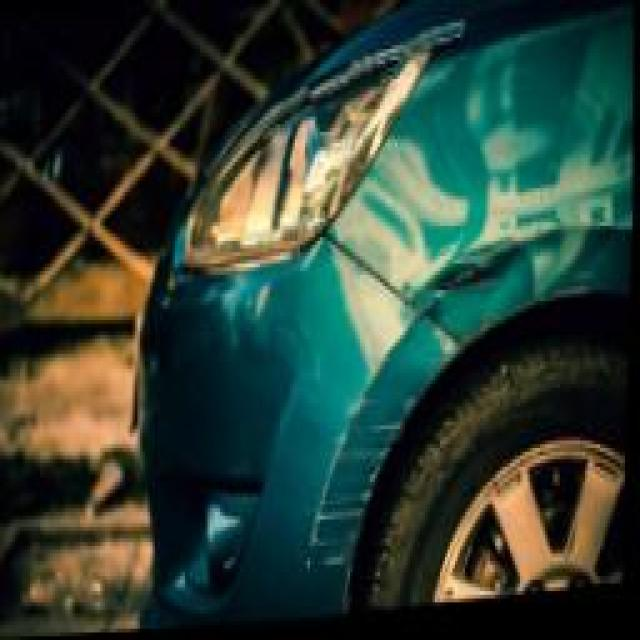Bumper: (278, 316, 454, 600)
Fender: (425, 166, 628, 327)
